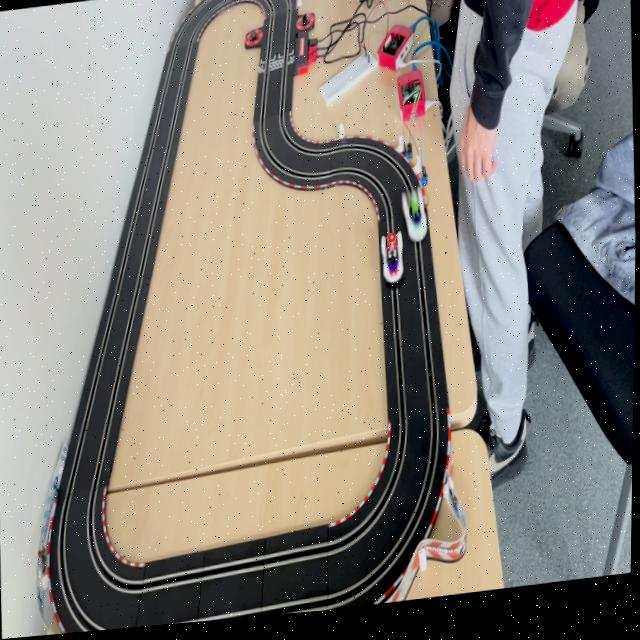mario: (382, 235, 405, 294)
yoshi: (400, 195, 427, 253)
